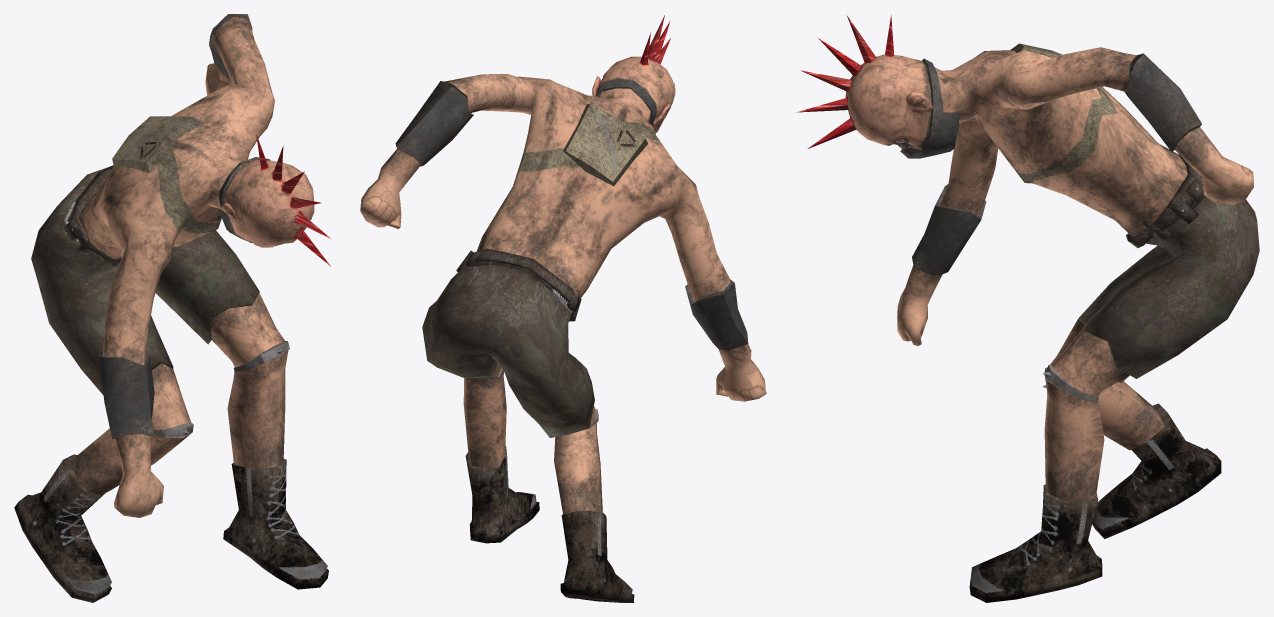
The model's file is Anim_cogerobjeto_npc2.0026.obj.
3 views of the same model, side by side, from view 1: azimuth 30°, elevation 25°; view 2: azimuth 150°, elevation 25°; view 3: azimuth 270°, elevation 25° (orthographic). The views are drawn at different scales.
Visible parts, largest first — view 1: polySurface1; view 2: polySurface1; view 3: polySurface1.
Part boxes in pixels (x1,y1,x2,y2): polySurface1: (14, 14, 330, 602); polySurface1: (360, 15, 766, 602); polySurface1: (795, 15, 1259, 602).
Size of the model in its own units: 3.74 by 6.97 by 5.28.
